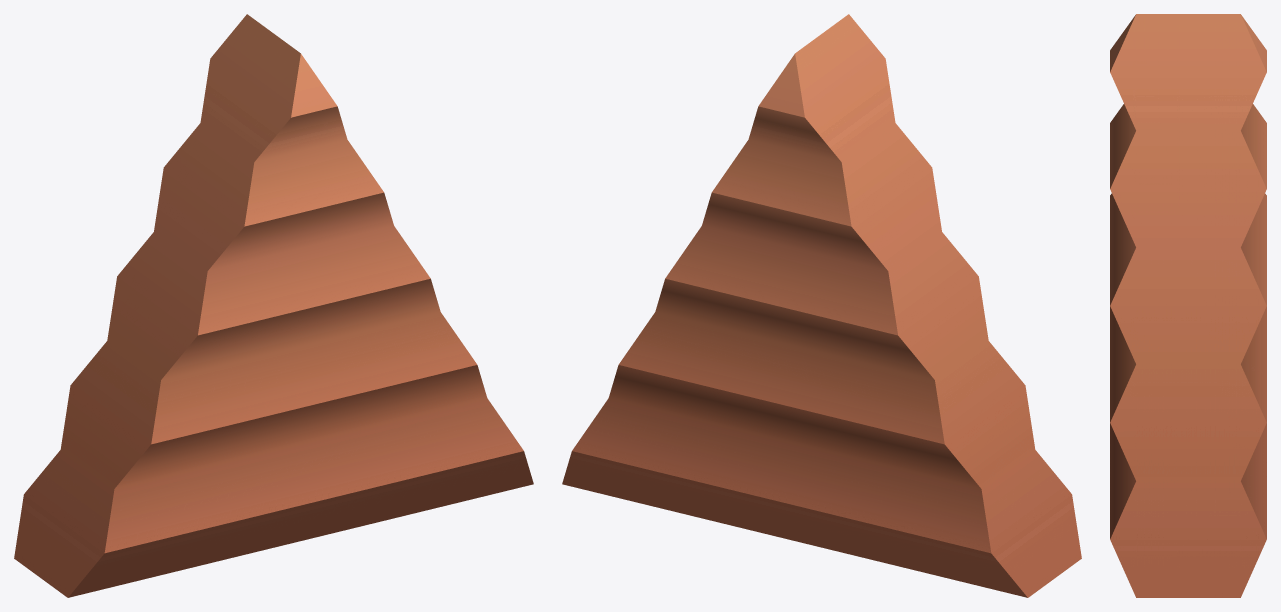
File: cabin-wall-roof-center.glb
The picture shows the model from 3 angles, left to right: view 1: azimuth 30°, elevation 25°; view 2: azimuth 150°, elevation 25°; view 3: azimuth 270°, elevation 25°; orthographic projection. The views are drawn at different scales.
Visible parts, largest first — view 1: cabin-wall-roof-center; view 2: cabin-wall-roof-center; view 3: cabin-wall-roof-center.
Boxes of the visible parts, <box> form: cabin-wall-roof-center: <box>14,14,533,597</box>; cabin-wall-roof-center: <box>562,14,1081,597</box>; cabin-wall-roof-center: <box>1110,14,1266,597</box>.
Size of the model in its own units: 1 by 1 by 0.3.
Materials: 1 (1 with a texture image).
